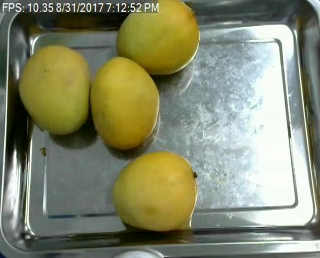Mango: (108, 150, 206, 230), (89, 48, 160, 145), (22, 41, 94, 135), (112, 1, 205, 73)
